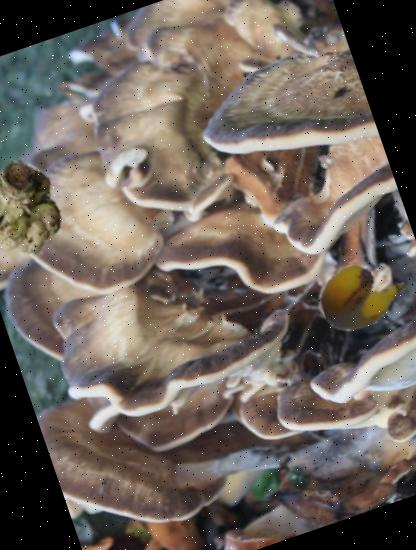Banana: (309, 240, 416, 349)
Cauliflower: (0, 150, 79, 271)
